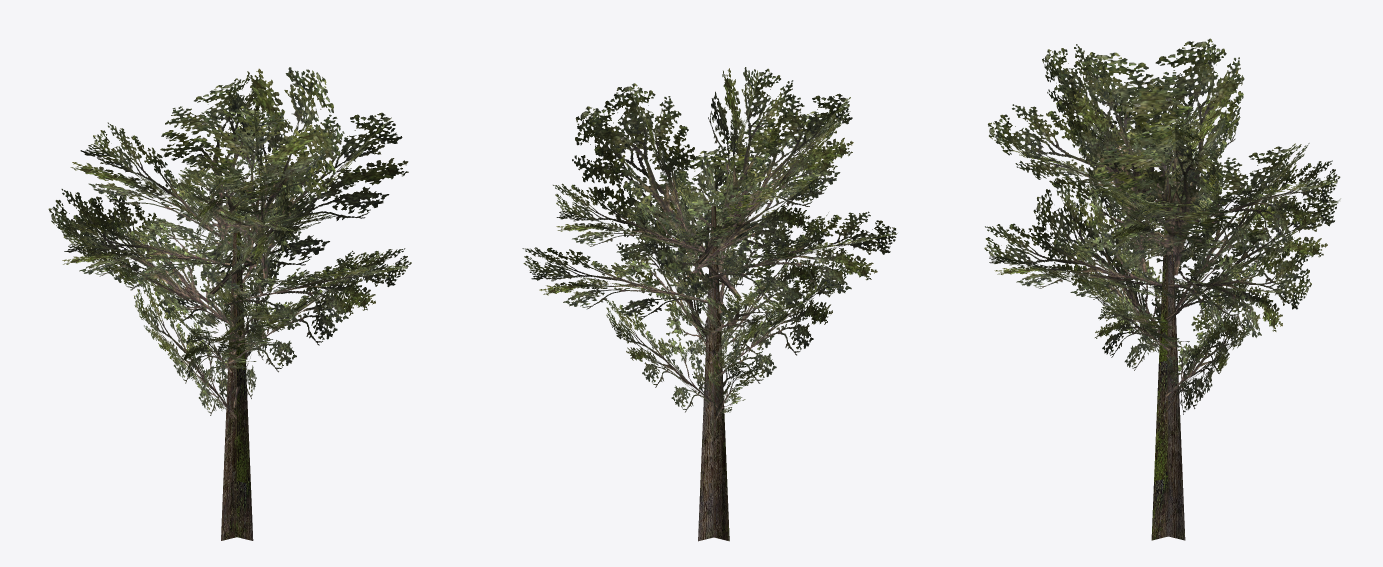
The picture shows the model from 3 angles, left to right: view 1: azimuth 30°, elevation 25°; view 2: azimuth 150°, elevation 25°; view 3: azimuth 270°, elevation 25°; orthographic projection. The views are drawn at different scales.
Parts seen in each view (by area): view 1: _gt01a; view 2: _gt01a; view 3: _gt01a.
Part boxes in pixels (left/top/right/bottom): _gt01a: left=48, top=67, right=411, bottom=540; _gt01a: left=522, top=67, right=897, bottom=541; _gt01a: left=984, top=38, right=1340, bottom=540.
Size of the model in its own units: 7.38 by 8.6 by 6.38.
Materials: 2 (2 with a texture image).
